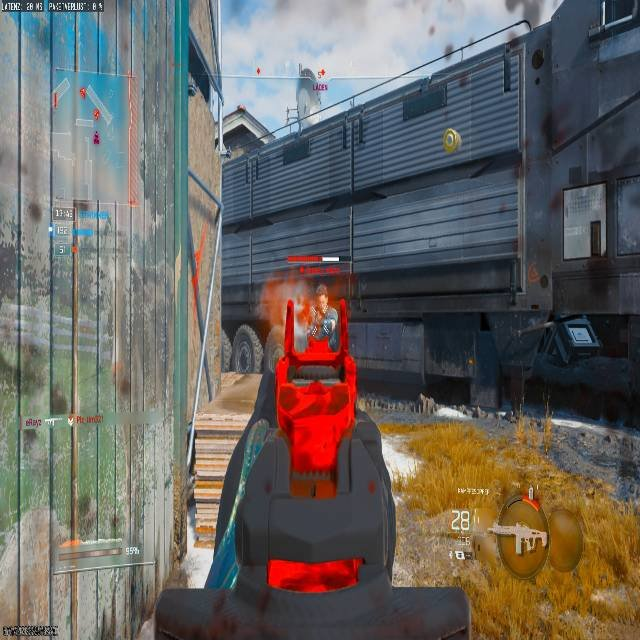player: (303, 282, 338, 342)
